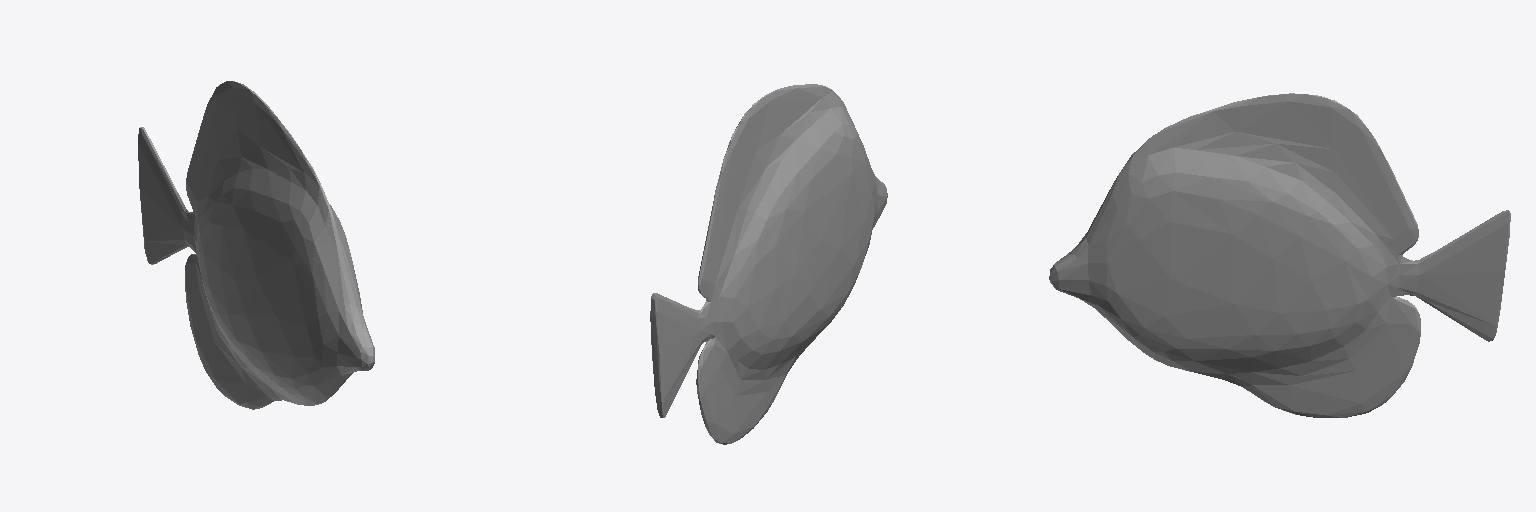
The model's file is Fish3.obj.
3 views of the same model, side by side, from view 1: azimuth 30°, elevation 25°; view 2: azimuth 150°, elevation 25°; view 3: azimuth 270°, elevation 25° (orthographic).
Parts seen in each view (by area): view 1: Cube; view 2: Cube; view 3: Cube.
Boxes of the visible parts, x1=… form: Cube: x1=138, y1=81, x2=374, y2=409; Cube: x1=650, y1=84, x2=887, y2=444; Cube: x1=1049, y1=93, x2=1510, y2=417.
Bounding box in the file's own units: 43.31 × 262 × 337.